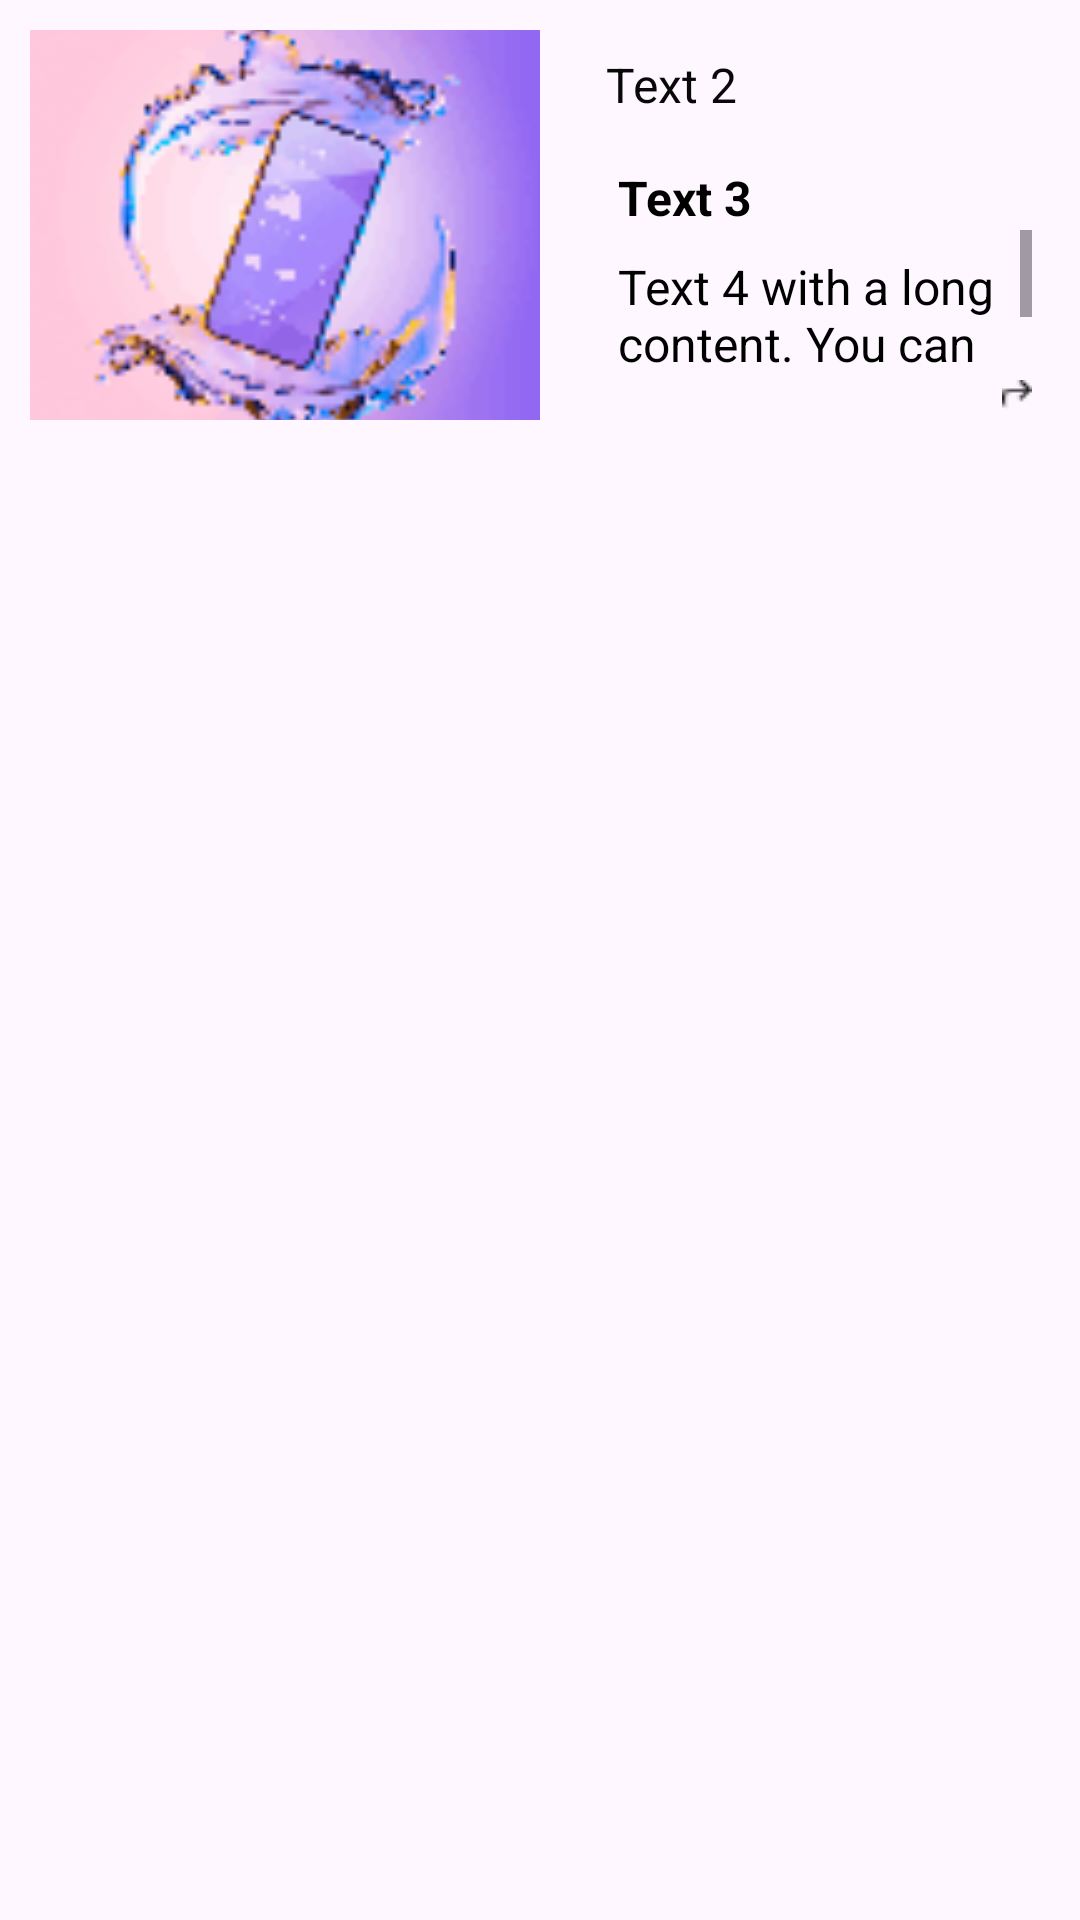

Screen size 1080px×1920px. Icon name, then its box in pixels as (x1, y1, x2, y2):
arrow: (1002, 380, 1032, 408)
